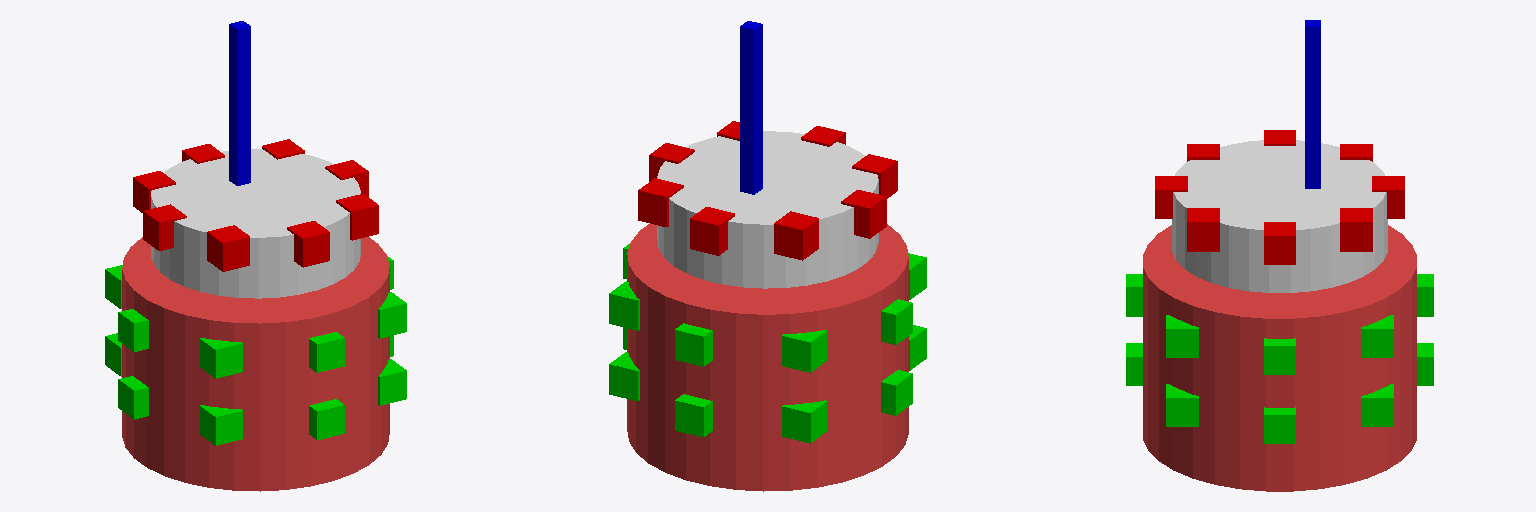
The robot description file, URDF, robot "random_bottle":
<?xml version="1.0"?>
<robot name="random_bottle">

  <!-- Define the cap link -->
  <link name="link1">
    <visual>
      <geometry>
        <mesh filename="cap.obj" scale="1.0 1.0 1.0"/>
      </geometry>
       <material name="white">
        <color rgba=".9 .9 .9 1"/>
      </material>

    </visual>
    <collision>
      <geometry>
        <mesh filename="cap.obj" scale="1.0 1.0 1.0"/>
      </geometry>
    </collision>

    <inertial>
      <mass value="0.019604381403596216"/> <!-- You can adjust the mass as needed -->
      <origin rpy="0 0 0" xyz="0 0 0"/>
      <inertia ixx="6.1020955784713495e-06" ixy="0.0" ixz="0.0" iyy="6.1020955784713495e-06" iyz="0.0" izz="1.075150631635842e-05"/>
    </inertial>
  </link>

    <link name="l10">
    <visual>
      <geometry>
        <box size="0.01 0.01 0.01"/>
      </geometry>

      <material name="red">
        <color rgba="0.9 0.0 0.0 1"/>
      </material>

    </visual>

    <inertial>
      <mass value="0.0001"/> <!-- You can adjust the mass as needed -->
      <origin rpy="0 0 0" xyz="0 0 -0.00"/> <!-- Offset by half of link1's height + 0.03m for the margin -->
      <inertia ixx="0.000000003" ixy="0.0" ixz="0.0" iyy="0.0000003" iyz="0.0" izz="0.00000003"/>
    </inertial>

  </link>
  <link name="l11">
    <visual>
      <geometry>
        <box size="0.01 0.01 0.01"/>
      </geometry>

      <material name="red">
        <color rgba="0.9 0.0 0.0 1"/>
      </material>

    </visual>

    <inertial>
      <mass value="0.0001"/> <!-- You can adjust the mass as needed -->
      <origin rpy="0 0 0" xyz="0 0 -0.00"/> <!-- Offset by half of link1's height + 0.03m for the margin -->
      <inertia ixx="0.000000003" ixy="0.0" ixz="0.0" iyy="0.0000003" iyz="0.0" izz="0.00000003"/>
    </inertial>

  </link>
  <link name="l12">
    <visual>
      <geometry>
        <box size="0.01 0.01 0.01"/>
      </geometry>

      <material name="red">
        <color rgba="0.9 0.0 0.0 1"/>
      </material>

    </visual>

    <inertial>
      <mass value="0.0001"/> <!-- You can adjust the mass as needed -->
      <origin rpy="0 0 0" xyz="0 0 -0.00"/> <!-- Offset by half of link1's height + 0.03m for the margin -->
      <inertia ixx="0.000000003" ixy="0.0" ixz="0.0" iyy="0.0000003" iyz="0.0" izz="0.00000003"/>
    </inertial>

  </link>
  <link name="l13">
    <visual>
      <geometry>
        <box size="0.01 0.01 0.01"/>
      </geometry>

      <material name="red">
        <color rgba="0.9 0.0 0.0 1"/>
      </material>

    </visual>

    <inertial>
      <mass value="0.0001"/> <!-- You can adjust the mass as needed -->
      <origin rpy="0 0 0" xyz="0 0 -0.00"/> <!-- Offset by half of link1's height + 0.03m for the margin -->
      <inertia ixx="0.000000003" ixy="0.0" ixz="0.0" iyy="0.0000003" iyz="0.0" izz="0.00000003"/>
    </inertial>

  </link>
  <link name="l10b">
    <visual>
      <geometry>
        <box size="0.01 0.01 0.01"/>
      </geometry>

      <material name="red">
        <color rgba="0.9 0.0 0.0 1"/>
      </material>

    </visual>

    <inertial>
      <mass value="0.0001"/> <!-- You can adjust the mass as needed -->
      <origin rpy="0 0 0" xyz="0 0 -0.00"/> <!-- Offset by half of link1's height + 0.03m for the margin -->
      <inertia ixx="0.000000003" ixy="0.0" ixz="0.0" iyy="0.0000003" iyz="0.0" izz="0.00000003"/>
    </inertial>

  </link>
  <link name="l11b">
    <visual>
      <geometry>
        <box size="0.01 0.01 0.01"/>
      </geometry>

      <material name="red">
        <color rgba="0.9 0.0 0.0 1"/>
      </material>

    </visual>

    <inertial>
      <mass value="0.0001"/> <!-- You can adjust the mass as needed -->
      <origin rpy="0 0 0" xyz="0 0 -0.00"/> <!-- Offset by half of link1's height + 0.03m for the margin -->
      <inertia ixx="0.000000003" ixy="0.0" ixz="0.0" iyy="0.0000003" iyz="0.0" izz="0.00000003"/>
    </inertial>

  </link>
  <link name="l12b">
    <visual>
      <geometry>
        <box size="0.01 0.01 0.01"/>
      </geometry>

      <material name="red">
        <color rgba="0.9 0.0 0.0 1"/>
      </material>

    </visual>

    <inertial>
      <mass value="0.0001"/> <!-- You can adjust the mass as needed -->
      <origin rpy="0 0 0" xyz="0 0 -0.00"/> <!-- Offset by half of link1's height + 0.03m for the margin -->
      <inertia ixx="0.000000003" ixy="0.0" ixz="0.0" iyy="0.0000003" iyz="0.0" izz="0.00000003"/>
    </inertial>

  </link>
  <link name="l13b">
    <visual>
      <geometry>
        <box size="0.01 0.01 0.01"/>
      </geometry>

      <material name="red">
        <color rgba="0.9 0.0 0.0 1"/>
      </material>

    </visual>

    <inertial>
      <mass value="0.0001"/> <!-- You can adjust the mass as needed -->
      <origin rpy="0 0 0" xyz="0 0 -0.00"/> <!-- Offset by half of link1's height + 0.03m for the margin -->
      <inertia ixx="0.000000003" ixy="0.0" ixz="0.0" iyy="0.0000003" iyz="0.0" izz="0.00000003"/>
    </inertial>

  </link>
  <link name="l20">
    <visual>
      <geometry>
        <box size="0.01 0.01 0.01"/>
      </geometry>

      <material name="red">
        <color rgba="0.0 0.9 0.0 1"/>
      </material>

    </visual>

    <inertial>
      <mass value="0.0001"/> <!-- You can adjust the mass as needed -->
      <origin rpy="0 0 0" xyz="0 0 -0.00"/> <!-- Offset by half of link1's height + 0.03m for the margin -->
      <inertia ixx="0.000000003" ixy="0.0" ixz="0.0" iyy="0.0000003" iyz="0.0" izz="0.00000003"/>
    </inertial>

  </link>
  <link name="l21">
    <visual>
      <geometry>
        <box size="0.01 0.01 0.01"/>
      </geometry>

      <material name="red">
        <color rgba="0.0 0.9 0.0 1"/>
      </material>

    </visual>

    <inertial>
      <mass value="0.0001"/> <!-- You can adjust the mass as needed -->
      <origin rpy="0 0 0" xyz="0 0 -0.00"/> <!-- Offset by half of link1's height + 0.03m for the margin -->
      <inertia ixx="0.000000003" ixy="0.0" ixz="0.0" iyy="0.0000003" iyz="0.0" izz="0.00000003"/>
    </inertial>

  </link>
  <link name="l22">
    <visual>
      <geometry>
        <box size="0.01 0.01 0.01"/>
      </geometry>

      <material name="red">
        <color rgba="0.0 0.9 0.0 1"/>
      </material>

    </visual>

    <inertial>
      <mass value="0.0001"/> <!-- You can adjust the mass as needed -->
      <origin rpy="0 0 0" xyz="0 0 -0.00"/> <!-- Offset by half of link1's height + 0.03m for the margin -->
      <inertia ixx="0.000000003" ixy="0.0" ixz="0.0" iyy="0.0000003" iyz="0.0" izz="0.00000003"/>
    </inertial>

  </link>
  <link name="l23">
    <visual>
      <geometry>
        <box size="0.01 0.01 0.01"/>
      </geometry>

      <material name="red">
        <color rgba="0.0 0.9 0.0 1"/>
      </material>

    </visual>

    <inertial>
      <mass value="0.0001"/> <!-- You can adjust the mass as needed -->
      <origin rpy="0 0 0" xyz="0 0 -0.00"/> <!-- Offset by half of link1's height + 0.03m for the margin -->
      <inertia ixx="0.000000003" ixy="0.0" ixz="0.0" iyy="0.0000003" iyz="0.0" izz="0.00000003"/>
    </inertial>

  </link>
  <link name="l24">
    <visual>
      <geometry>
        <box size="0.01 0.01 0.01"/>
      </geometry>

      <material name="red">
        <color rgba="0.0 0.9 0.0 1"/>
      </material>

    </visual>

    <inertial>
      <mass value="0.0001"/> <!-- You can adjust the mass as needed -->
      <origin rpy="0 0 0" xyz="0 0 -0.00"/> <!-- Offset by half of link1's height + 0.03m for the margin -->
      <inertia ixx="0.000000003" ixy="0.0" ixz="0.0" iyy="0.0000003" iyz="0.0" izz="0.00000003"/>
    </inertial>

  </link>
  <link name="l25">
    <visual>
      <geometry>
        <box size="0.01 0.01 0.01"/>
      </geometry>

      <material name="red">
        <color rgba="0.0 0.9 0.0 1"/>
      </material>

    </visual>

    <inertial>
      <mass value="0.0001"/> <!-- You can adjust the mass as needed -->
      <origin rpy="0 0 0" xyz="0 0 -0.00"/> <!-- Offset by half of link1's height + 0.03m for the margin -->
      <inertia ixx="0.000000003" ixy="0.0" ixz="0.0" iyy="0.0000003" iyz="0.0" izz="0.00000003"/>
    </inertial>

  </link>
  <link name="l26">
    <visual>
      <geometry>
        <box size="0.01 0.01 0.01"/>
      </geometry>

      <material name="red">
        <color rgba="0.0 0.9 0.0 1"/>
      </material>

    </visual>

    <inertial>
      <mass value="0.0001"/> <!-- You can adjust the mass as needed -->
      <origin rpy="0 0 0" xyz="0 0 -0.00"/> <!-- Offset by half of link1's height + 0.03m for the margin -->
      <inertia ixx="0.000000003" ixy="0.0" ixz="0.0" iyy="0.0000003" iyz="0.0" izz="0.00000003"/>
    </inertial>

  </link>
  <link name="l27">
    <visual>
      <geometry>
        <box size="0.01 0.01 0.01"/>
      </geometry>

      <material name="red">
        <color rgba="0.0 0.9 0.0 1"/>
      </material>

    </visual>

    <inertial>
      <mass value="0.0001"/> <!-- You can adjust the mass as needed -->
      <origin rpy="0 0 0" xyz="0 0 -0.00"/> <!-- Offset by half of link1's height + 0.03m for the margin -->
      <inertia ixx="0.000000003" ixy="0.0" ixz="0.0" iyy="0.0000003" iyz="0.0" izz="0.00000003"/>
    </inertial>

  </link>
  <link name="l30">
    <visual>
      <geometry>
        <box size="0.01 0.01 0.01"/>
      </geometry>

      <material name="red">
        <color rgba="0.0 0.9 0.0 1"/>
      </material>

    </visual>

    <inertial>
      <mass value="0.0001"/> <!-- You can adjust the mass as needed -->
      <origin rpy="0 0 0" xyz="0 0 -0.00"/> <!-- Offset by half of link1's height + 0.03m for the margin -->
      <inertia ixx="0.000000003" ixy="0.0" ixz="0.0" iyy="0.0000003" iyz="0.0" izz="0.00000003"/>
    </inertial>

  </link>
  <link name="l31">
    <visual>
      <geometry>
        <box size="0.01 0.01 0.01"/>
      </geometry>

      <material name="red">
        <color rgba="0.0 0.9 0.0 1"/>
      </material>

    </visual>

    <inertial>
      <mass value="0.0001"/> <!-- You can adjust the mass as needed -->
      <origin rpy="0 0 0" xyz="0 0 -0.00"/> <!-- Offset by half of link1's height + 0.03m for the margin -->
      <inertia ixx="0.000000003" ixy="0.0" ixz="0.0" iyy="0.0000003" iyz="0.0" izz="0.00000003"/>
    </inertial>

  </link>
  <link name="l32">
    <visual>
      <geometry>
        <box size="0.01 0.01 0.01"/>
      </geometry>

      <material name="red">
        <color rgba="0.0 0.9 0.0 1"/>
      </material>

    </visual>

    <inertial>
      <mass value="0.0001"/> <!-- You can adjust the mass as needed -->
      <origin rpy="0 0 0" xyz="0 0 -0.00"/> <!-- Offset by half of link1's height + 0.03m for the margin -->
      <inertia ixx="0.000000003" ixy="0.0" ixz="0.0" iyy="0.0000003" iyz="0.0" izz="0.00000003"/>
    </inertial>

  </link>
  <link name="l33">
    <visual>
      <geometry>
        <box size="0.01 0.01 0.01"/>
      </geometry>

      <material name="red">
        <color rgba="0.0 0.9 0.0 1"/>
      </material>

    </visual>

    <inertial>
      <mass value="0.0001"/> <!-- You can adjust the mass as needed -->
      <origin rpy="0 0 0" xyz="0 0 -0.00"/> <!-- Offset by half of link1's height + 0.03m for the margin -->
      <inertia ixx="0.000000003" ixy="0.0" ixz="0.0" iyy="0.0000003" iyz="0.0" izz="0.00000003"/>
    </inertial>

  </link>
  <link name="l34">
    <visual>
      <geometry>
        <box size="0.01 0.01 0.01"/>
      </geometry>

      <material name="red">
        <color rgba="0.0 0.9 0.0 1"/>
      </material>

    </visual>

    <inertial>
      <mass value="0.0001"/> <!-- You can adjust the mass as needed -->
      <origin rpy="0 0 0" xyz="0 0 -0.00"/> <!-- Offset by half of link1's height + 0.03m for the margin -->
      <inertia ixx="0.000000003" ixy="0.0" ixz="0.0" iyy="0.0000003" iyz="0.0" izz="0.00000003"/>
    </inertial>

  </link>
  <link name="l35">
    <visual>
      <geometry>
        <box size="0.01 0.01 0.01"/>
      </geometry>

      <material name="red">
        <color rgba="0.0 0.9 0.0 1"/>
      </material>

    </visual>

    <inertial>
      <mass value="0.0001"/> <!-- You can adjust the mass as needed -->
      <origin rpy="0 0 0" xyz="0 0 -0.00"/> <!-- Offset by half of link1's height + 0.03m for the margin -->
      <inertia ixx="0.000000003" ixy="0.0" ixz="0.0" iyy="0.0000003" iyz="0.0" izz="0.00000003"/>
    </inertial>

  </link>
  <link name="l36">
    <visual>
      <geometry>
        <box size="0.01 0.01 0.01"/>
      </geometry>

      <material name="red">
        <color rgba="0.0 0.9 0.0 1"/>
      </material>

    </visual>

    <inertial>
      <mass value="0.0001"/> <!-- You can adjust the mass as needed -->
      <origin rpy="0 0 0" xyz="0 0 -0.00"/> <!-- Offset by half of link1's height + 0.03m for the margin -->
      <inertia ixx="0.000000003" ixy="0.0" ixz="0.0" iyy="0.0000003" iyz="0.0" izz="0.00000003"/>
    </inertial>

  </link>
  <link name="l37">
    <visual>
      <geometry>
        <box size="0.01 0.01 0.01"/>
      </geometry>

      <material name="red">
        <color rgba="0.0 0.9 0.0 1"/>
      </material>

    </visual>

    <inertial>
      <mass value="0.0001"/> <!-- You can adjust the mass as needed -->
      <origin rpy="0 0 0" xyz="0 0 -0.00"/> <!-- Offset by half of link1's height + 0.03m for the margin -->
      <inertia ixx="0.000000003" ixy="0.0" ixz="0.0" iyy="0.0000003" iyz="0.0" izz="0.00000003"/>
    </inertial>

  </link>


  <link name="hint">
    <visual>
      <geometry>
        <box size="0.005 0.005 0.07"/> <!-- 9cm x 9cm x 6cm -->
      </geometry>
       <material name="blue">
        <color rgba=".0 .0 .9 1"/>
      </material>
    </visual>

    <inertial>
      <mass value="0.0001"/> <!-- You can adjust the mass as needed -->
      <origin rpy="0 0 0" xyz="0 0 -0.00"/> <!-- Offset by half of link1's height + 0.03m for the margin -->
      <inertia ixx="0.000000003" ixy="0.0" ixz="0.0" iyy="0.0000003" iyz="0.0" izz="0.00000003"/>
    </inertial>


  </link>

  <!-- Define the base link -->
  <link name="link2">
    <visual>
      <geometry>
        <mesh filename="base.obj" scale="1.0 1.0 1.0"/>
      </geometry>
      <material name="red">
        <color rgba=".9 .3 .3 1"/>
      </material>

    </visual>

    <collision>
      <geometry>
        <mesh filename="base.obj" scale="1.0 1.0 1.0"/>
      </geometry>
    </collision>

    <inertial>
      <mass value="0.046963596808370915"/> <!-- You can adjust the mass as needed -->
      <origin rpy="0 0 0" xyz="0 0 -0.00"/> <!-- Offset by half of link1's height + 0.03m for the margin -->
      <inertia ixx="3.4178539666682047e-05" ixy="0.0" ixz="0.0" iyy="3.4178539666682047e-05" iyz="0.0" izz="4.172451808443283e-05"/>
    </inertial>
  </link>



  <link name="brake">
   <visual>
      <geometry>
        <box size="0.02 0.02 0.005"/> <!-- 6cm x 6cm x 2cm -->
      </geometry>
       <material name="gray">
        <color rgba=".5 .5 .5 1"/>
      </material>

    </visual>
    <collision>
      <geometry>
        <box size="0.02 0.02 0.005"/> <!-- 6cm x 6cm x 2cm -->
      </geometry>
    </collision>

    <inertial>
      <mass value="0.005"/> <!-- You can adjust the mass as needed -->
      <origin rpy="0 0 0" xyz="0 0 0"/>
      <inertia ixx="0.00018" ixy="0.0" ixz="0.0" iyy="0.00018" iyz="0.0" izz="0.00018"/>
    </inertial>
  </link>

  <!-- Define the joint connecting link1 and link2 as a revolute joint along z-axis -->
  <joint name="fix_joint" type="fixed">
    <parent link="link1"/>
    <child link="hint"/>
    <origin rpy="0 0 0" xyz="0 0.01 0.03"/> <!-- Offset by half of link1's height for the margin -->
    <axis xyz="0 0 1"/>
  </joint>

  <!-- Define the joint connecting link1 and link2 as a revolute joint along z-axis -->
  <joint name="brake_joint" type="prismatic">
    <parent link="link2"/>
    <child link="brake"/>
    <origin rpy="0 0 0" xyz="0 0 0.05025117535118383"/> <!-- Offset by half of link1's height for the margin -->
    <axis xyz="0 0 1"/>
    <limit lower="-0.02" upper="0.02" />
    <!-- <dynamics damping="0.0" friction="0.0"/> -->
  </joint>


  <joint name="b_joint" type="revolute">
    <parent link="link2"/>
    <child link="link1"/>
    <origin rpy="0 0 0" xyz="0 0 0.044165633986199715"/> <!-- Offset by half of link1's height for the margin -->
    <axis xyz="0 0 1"/>
    <!-- No joint limits -->
    <dynamics damping="0.0" friction="0.0"/>
  </joint>


  <!-- marker -->
    <joint name="jl10" type="fixed">
    <parent link="link1"/>
    <child link="l10"/>
    <origin rpy="0 0 0" xyz="0.0 0.033118684921370524 0.006325662409495232"/> <!-- Offset by half of link1's height for the margin -->
    <axis xyz="0 0 1"/>
  </joint>
  <joint name="jl11" type="fixed">
    <parent link="link1"/>
    <child link="l11"/>
    <origin rpy="0 0 0" xyz="0.02341844637813433 0.023418447005629183 0.006325662409495232"/> <!-- Offset by half of link1's height for the margin -->
    <axis xyz="0 0 1"/>
  </joint>
  <joint name="jl12" type="fixed">
    <parent link="link1"/>
    <child link="l12"/>
    <origin rpy="0 0 0" xyz="0.03311868492137051 8.874117375002704e-10 0.006325662409495232"/> <!-- Offset by half of link1's height for the margin -->
    <axis xyz="0 0 1"/>
  </joint>
  <joint name="jl13" type="fixed">
    <parent link="link1"/>
    <child link="l13"/>
    <origin rpy="0 0 0" xyz="0.023418447633124017 -0.023418445750639456 0.006325662409495232"/> <!-- Offset by half of link1's height for the margin -->
    <axis xyz="0 0 1"/>
  </joint>
  <joint name="jl10b" type="fixed">
    <parent link="link1"/>
    <child link="l10b"/>
    <origin rpy="0 0 0" xyz="1.7748234750005399e-09 -0.033118684921370475 0.006325662409495232"/> <!-- Offset by half of link1's height for the margin -->
    <axis xyz="0 0 1"/>
  </joint>
  <joint name="jl11b" type="fixed">
    <parent link="link1"/>
    <child link="l11b"/>
    <origin rpy="0 0 0" xyz="-0.02341844512314456 -0.023418448260618854 0.006325662409495232"/> <!-- Offset by half of link1's height for the margin -->
    <axis xyz="0 0 1"/>
  </joint>
  <joint name="jl12b" type="fixed">
    <parent link="link1"/>
    <child link="l12b"/>
    <origin rpy="0 0 0" xyz="-0.03311868492137042 -2.662235197793158e-09 0.006325662409495232"/> <!-- Offset by half of link1's height for the margin -->
    <axis xyz="0 0 1"/>
  </joint>
  <joint name="jl13b" type="fixed">
    <parent link="link1"/>
    <child link="l13b"/>
    <origin rpy="0 0 0" xyz="-0.02341844888811365 0.02341844449564966 0.006325662409495232"/> <!-- Offset by half of link1's height for the margin -->
    <axis xyz="0 0 1"/>
  </joint>
  <joint name="jl20" type="fixed">
    <parent link="link2"/>
    <child link="l20"/>
    <origin rpy="0 0 0" xyz="0.0 0.042153145449699995 0.017499380391719832"/> <!-- Offset by half of link1's height for the margin -->
    <axis xyz="0 0 1"/>
  </joint>
  <joint name="jl21" type="fixed">
    <parent link="link2"/>
    <child link="l21"/>
    <origin rpy="0 0 0" xyz="0.029806774596491 0.029806775395160447 0.017499380391719832"/> <!-- Offset by half of link1's height for the margin -->
    <axis xyz="0 0 1"/>
  </joint>
  <joint name="jl22" type="fixed">
    <parent link="link2"/>
    <child link="l22"/>
    <origin rpy="0 0 0" xyz="0.04215314544969998 1.1294891730583816e-09 0.017499380391719832"/> <!-- Offset by half of link1's height for the margin -->
    <axis xyz="0 0 1"/>
  </joint>
  <joint name="jl23" type="fixed">
    <parent link="link2"/>
    <child link="l23"/>
    <origin rpy="0 0 0" xyz="0.029806776193829872 -0.029806773797821526 0.017499380391719832"/> <!-- Offset by half of link1's height for the margin -->
    <axis xyz="0 0 1"/>
  </joint>
  <joint name="jl24" type="fixed">
    <parent link="link2"/>
    <child link="l24"/>
    <origin rpy="0 0 0" xyz="2.2589783461167624e-09 -0.04215314544969993 0.017499380391719832"/> <!-- Offset by half of link1's height for the margin -->
    <axis xyz="0 0 1"/>
  </joint>
  <joint name="jl25" type="fixed">
    <parent link="link2"/>
    <child link="l25"/>
    <origin rpy="0 0 0" xyz="-0.02980677299915202 -0.0298067769924993 0.017499380391719832"/> <!-- Offset by half of link1's height for the margin -->
    <axis xyz="0 0 1"/>
  </joint>
  <joint name="jl26" type="fixed">
    <parent link="link2"/>
    <child link="l26"/>
    <origin rpy="0 0 0" xyz="-0.04215314544969986 -3.388467500455385e-09 0.017499380391719832"/> <!-- Offset by half of link1's height for the margin -->
    <axis xyz="0 0 1"/>
  </joint>
  <joint name="jl27" type="fixed">
    <parent link="link2"/>
    <child link="l27"/>
    <origin rpy="0 0 0" xyz="-0.029806777791168675 0.029806772200482515 0.017499380391719832"/> <!-- Offset by half of link1's height for the margin -->
    <axis xyz="0 0 1"/>
  </joint>
  <joint name="jl30" type="fixed">
    <parent link="link2"/>
    <child link="l30"/>
    <origin rpy="0 0 0" xyz="0.0 0.042153145449699995 -0.005833126797239944"/> <!-- Offset by half of link1's height for the margin -->
    <axis xyz="0 0 1"/>
  </joint>
  <joint name="jl31" type="fixed">
    <parent link="link2"/>
    <child link="l31"/>
    <origin rpy="0 0 0" xyz="0.029806774596491 0.029806775395160447 -0.005833126797239944"/> <!-- Offset by half of link1's height for the margin -->
    <axis xyz="0 0 1"/>
  </joint>
  <joint name="jl32" type="fixed">
    <parent link="link2"/>
    <child link="l32"/>
    <origin rpy="0 0 0" xyz="0.04215314544969998 1.1294891730583816e-09 -0.005833126797239944"/> <!-- Offset by half of link1's height for the margin -->
    <axis xyz="0 0 1"/>
  </joint>
  <joint name="jl33" type="fixed">
    <parent link="link2"/>
    <child link="l33"/>
    <origin rpy="0 0 0" xyz="0.029806776193829872 -0.029806773797821526 -0.005833126797239944"/> <!-- Offset by half of link1's height for the margin -->
    <axis xyz="0 0 1"/>
  </joint>
  <joint name="jl34" type="fixed">
    <parent link="link2"/>
    <child link="l34"/>
    <origin rpy="0 0 0" xyz="2.2589783461167624e-09 -0.04215314544969993 -0.005833126797239944"/> <!-- Offset by half of link1's height for the margin -->
    <axis xyz="0 0 1"/>
  </joint>
  <joint name="jl35" type="fixed">
    <parent link="link2"/>
    <child link="l35"/>
    <origin rpy="0 0 0" xyz="-0.02980677299915202 -0.0298067769924993 -0.005833126797239944"/> <!-- Offset by half of link1's height for the margin -->
    <axis xyz="0 0 1"/>
  </joint>
  <joint name="jl36" type="fixed">
    <parent link="link2"/>
    <child link="l36"/>
    <origin rpy="0 0 0" xyz="-0.04215314544969986 -3.388467500455385e-09 -0.005833126797239944"/> <!-- Offset by half of link1's height for the margin -->
    <axis xyz="0 0 1"/>
  </joint>
  <joint name="jl37" type="fixed">
    <parent link="link2"/>
    <child link="l37"/>
    <origin rpy="0 0 0" xyz="-0.029806777791168675 0.029806772200482515 -0.005833126797239944"/> <!-- Offset by half of link1's height for the margin -->
    <axis xyz="0 0 1"/>
  </joint>



</robot>

--- Facts derived from the render (not from the file) ---
Views: 3 orthographic renders of the robot side by side, from view 1: azimuth 30°, elevation 25°; view 2: azimuth 150°, elevation 25°; view 3: azimuth 270°, elevation 25°.
Model random_bottle with 28 links and 27 joints (1 revolute, 1 prismatic, 25 fixed), rooted at link2, posed all joints at 0.
Links seen in each view (by area): view 1: link2, link1, hint, l11b, l10b, l35, l25, l12b, l13, l34, l24, l36 (+9 smaller); view 2: link2, link1, hint, l13b, l10, l27, l37, l12b, l11, l20, l30, l36 (+8 smaller); view 3: link2, link1, hint, l11, l13, l12, l21, l23, l31, l33, l22, l32 (+8 smaller).
Link boxes in pixels (x1=…): link2: x1=122, y1=237, x2=389, y2=491; link1: x1=151, y1=149, x2=360, y2=298; hint: x1=229, y1=21, x2=250, y2=185; l11b: x1=207, y1=225, x2=249, y2=271; l10b: x1=287, y1=221, x2=329, y2=267; l35: x1=200, y1=405, x2=242, y2=445; l25: x1=200, y1=338, x2=242, y2=378; l12b: x1=143, y1=204, x2=186, y2=250; l13: x1=336, y1=194, x2=378, y2=240; l34: x1=309, y1=399, x2=344, y2=439; l24: x1=309, y1=332, x2=344, y2=372; l36: x1=118, y1=376, x2=148, y2=419; link2: x1=627, y1=224, x2=908, y2=491; link1: x1=657, y1=131, x2=878, y2=288; hint: x1=740, y1=21, x2=762, y2=194; l13b: x1=774, y1=211, x2=818, y2=260; l10: x1=690, y1=207, x2=734, y2=255; l27: x1=782, y1=330, x2=826, y2=372; l37: x1=782, y1=400, x2=826, y2=443; l12b: x1=841, y1=190, x2=886, y2=238; l11: x1=638, y1=178, x2=683, y2=226; l20: x1=675, y1=323, x2=712, y2=366; l30: x1=675, y1=394, x2=712, y2=437; l36: x1=881, y1=370, x2=912, y2=415; link2: x1=1143, y1=225, x2=1416, y2=491; link1: x1=1172, y1=140, x2=1387, y2=292; hint: x1=1305, y1=20, x2=1320, y2=188; l11: x1=1340, y1=208, x2=1372, y2=251; l13: x1=1187, y1=208, x2=1219, y2=251; l12: x1=1264, y1=222, x2=1295, y2=264; l21: x1=1361, y1=315, x2=1393, y2=357; l23: x1=1166, y1=315, x2=1198, y2=357; l31: x1=1361, y1=384, x2=1393, y2=426; l33: x1=1166, y1=384, x2=1198, y2=426; l22: x1=1264, y1=338, x2=1295, y2=374; l32: x1=1264, y1=407, x2=1295, y2=443.
Size in the robot's own frame: 0.0943 by 0.0943 by 0.1383 metres.
Meshes: 2 distinct files referenced, 2 mesh visuals loaded (2 OBJ).
